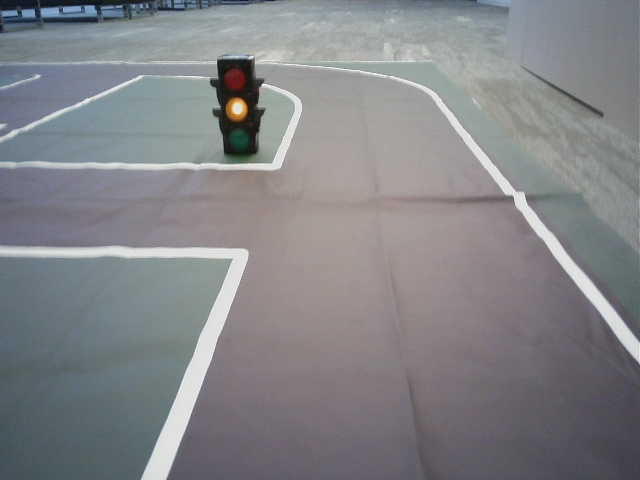yellow: (218, 61, 252, 156)
